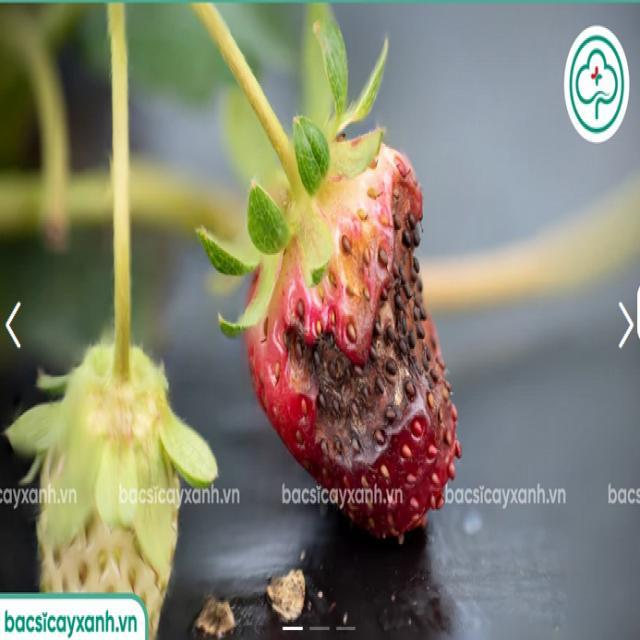Mancha negra Antracnosis: (229, 135, 463, 538)
